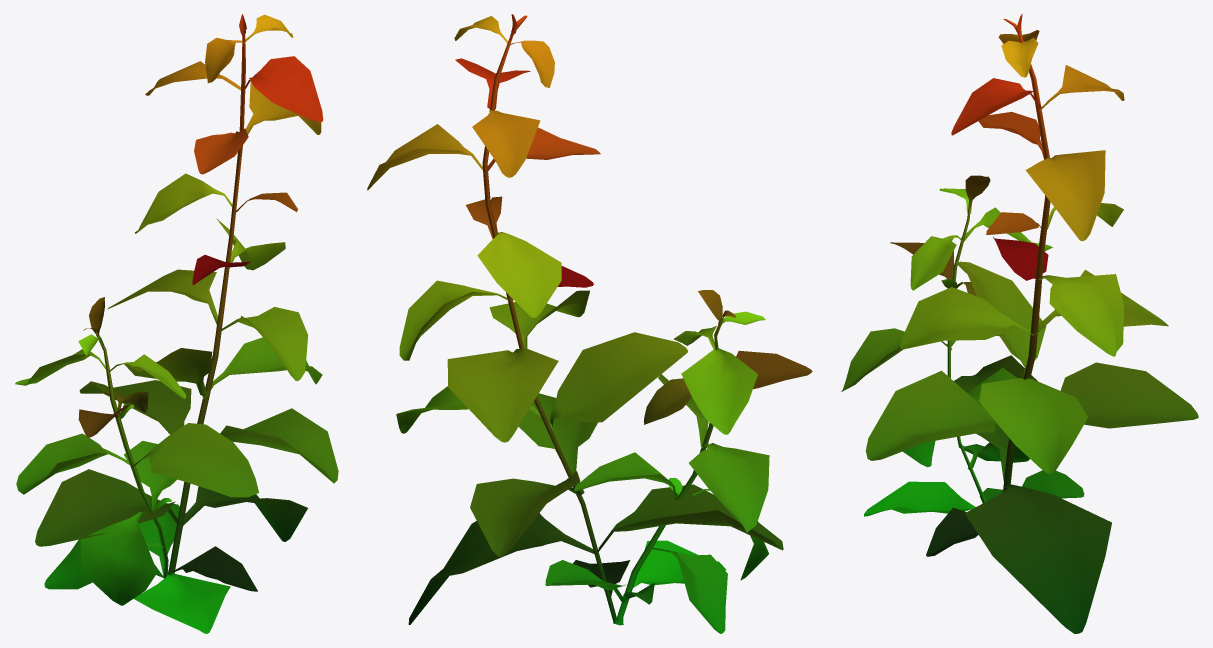
The model's file is SM_OW_Shrub_a_LOD1.fbx.
3 renders of one model, left to right at view 1: azimuth 30°, elevation 25°; view 2: azimuth 150°, elevation 25°; view 3: azimuth 270°, elevation 25°, orthographic. The views are drawn at different scales.
Parts seen in each view (by area): view 1: SM_OW_Shrub_a_LOD1; view 2: SM_OW_Shrub_a_LOD1; view 3: SM_OW_Shrub_a_LOD1.
Part boxes in pixels (bbox=[...]): SM_OW_Shrub_a_LOD1: bbox=[15, 14, 338, 633]; SM_OW_Shrub_a_LOD1: bbox=[367, 14, 812, 633]; SM_OW_Shrub_a_LOD1: bbox=[841, 14, 1198, 633].
Size of the model in its own units: 0.2308 by 0.3719 by 0.2057.
